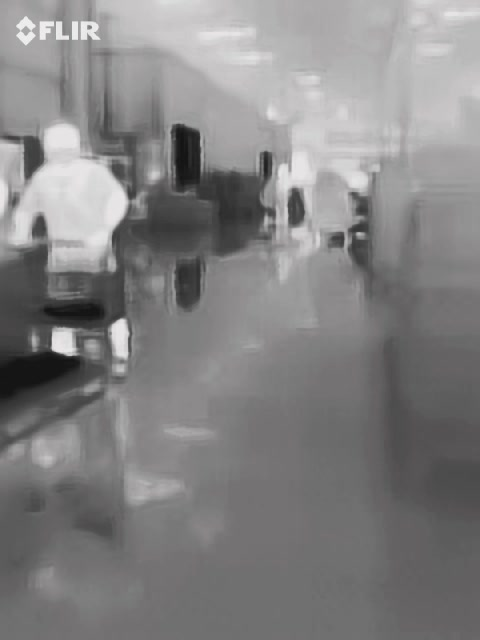head: (39, 118, 81, 165)
